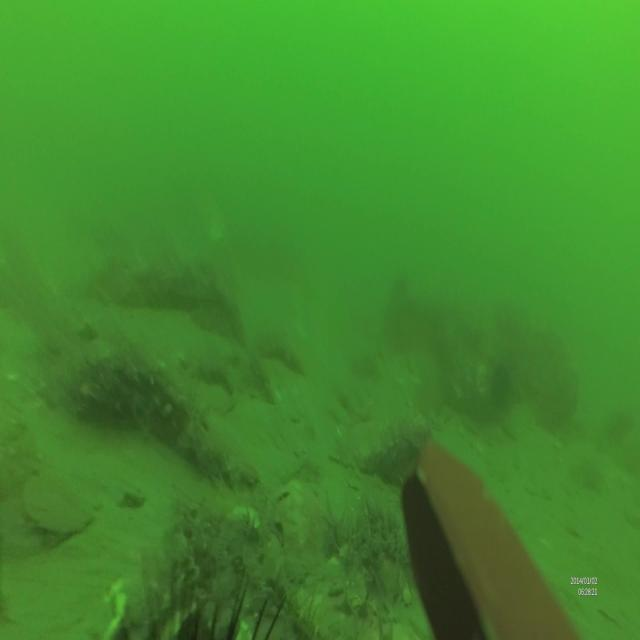echinus: (112, 561, 292, 640)
